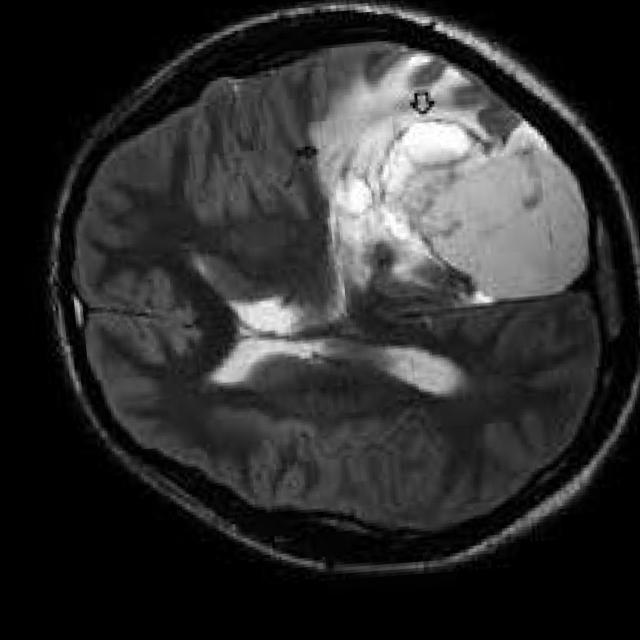Tumor: (304, 74, 582, 309)
